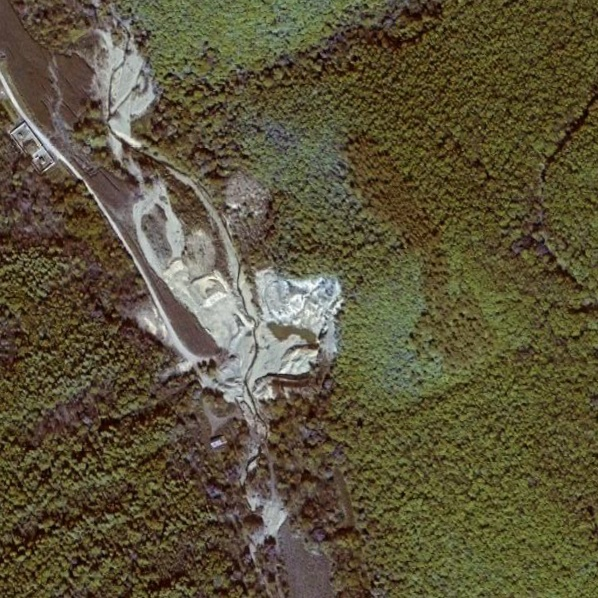slope: (255, 265, 341, 353)
